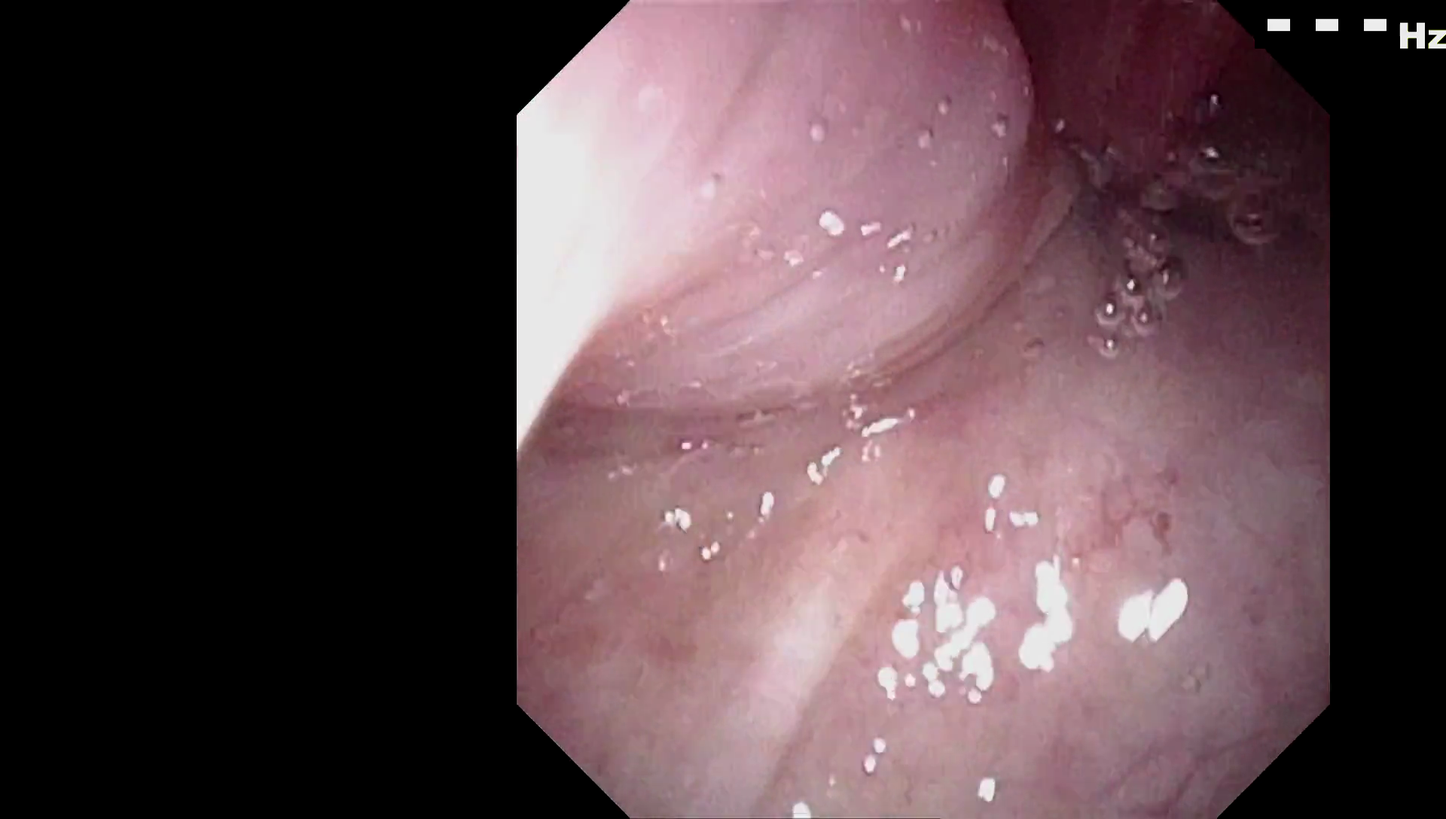close_wall: (521, 120, 757, 495)
